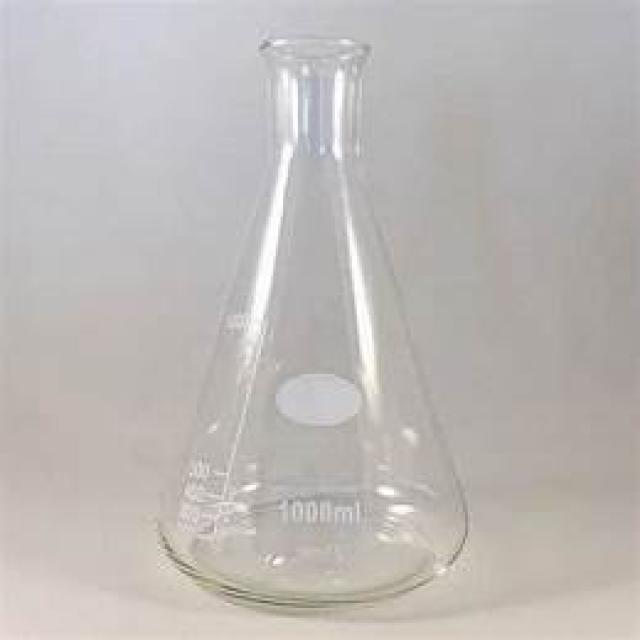Titrarion: (153, 33, 472, 611)
